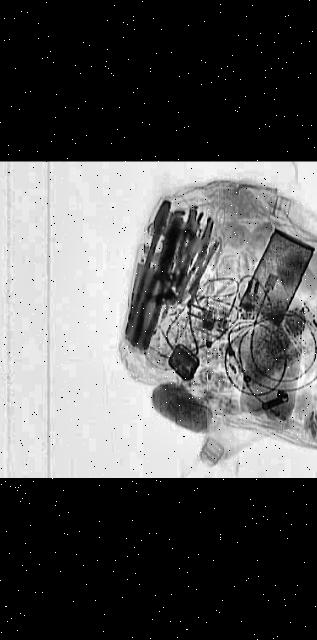Pliers: (125, 218, 188, 352)
